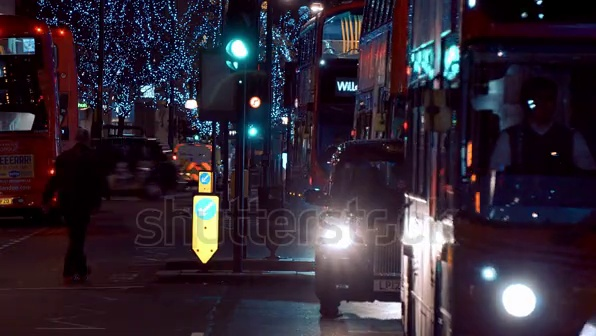licenseplate: (374, 281, 407, 291)
